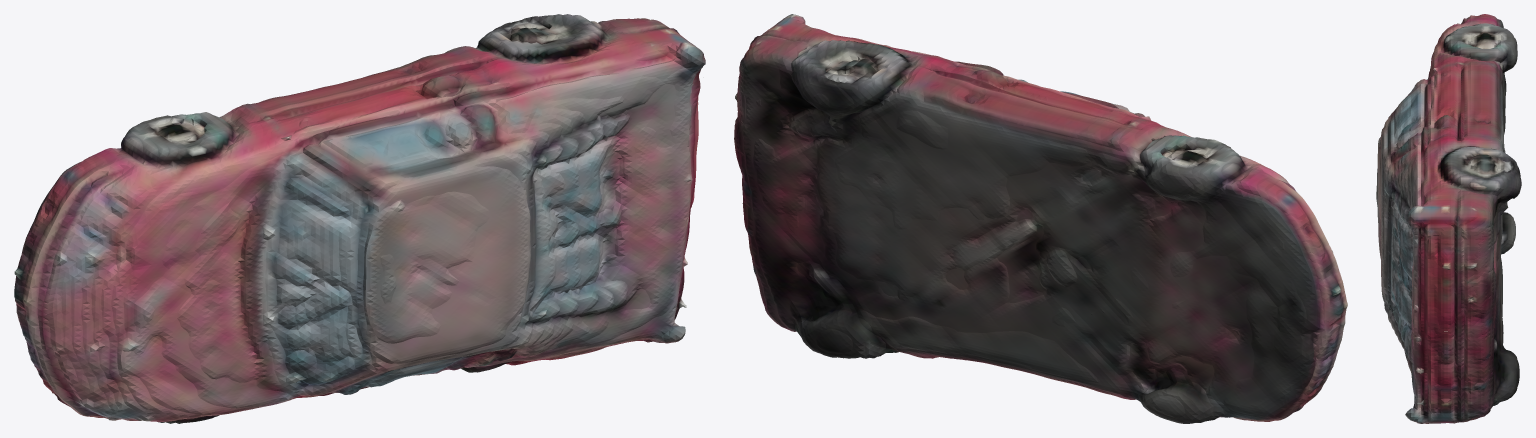
The model's file is calibrated.glb.
The picture shows the model from 3 angles, left to right: view 1: azimuth 30°, elevation 25°; view 2: azimuth 150°, elevation 25°; view 3: azimuth 270°, elevation 25°; orthographic projection. The views are drawn at different scales.
Visible parts, largest first — view 1: world; view 2: world; view 3: world.
Boxes of the visible parts, left/top/right/bottom form: world: left=14, top=14, right=705, bottom=423; world: left=734, top=14, right=1347, bottom=423; world: left=1376, top=14, right=1521, bottom=423.
Size of the model in its own units: 4.43 by 1.98 by 1.13.
